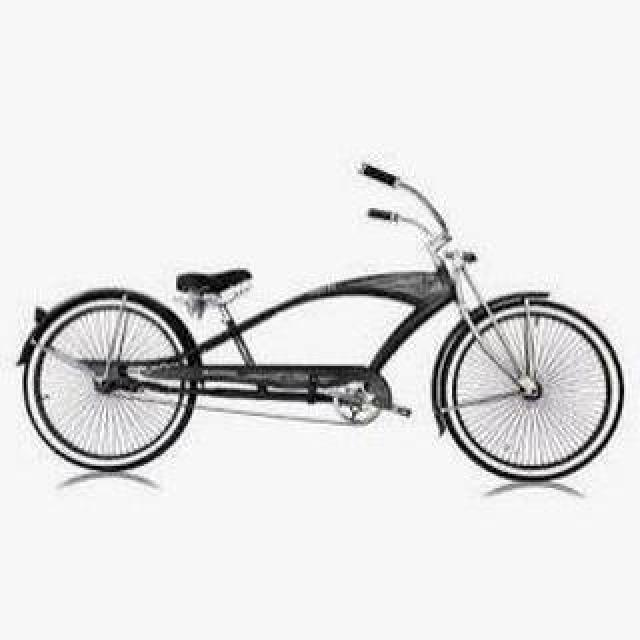Person: (16, 158, 624, 488)
